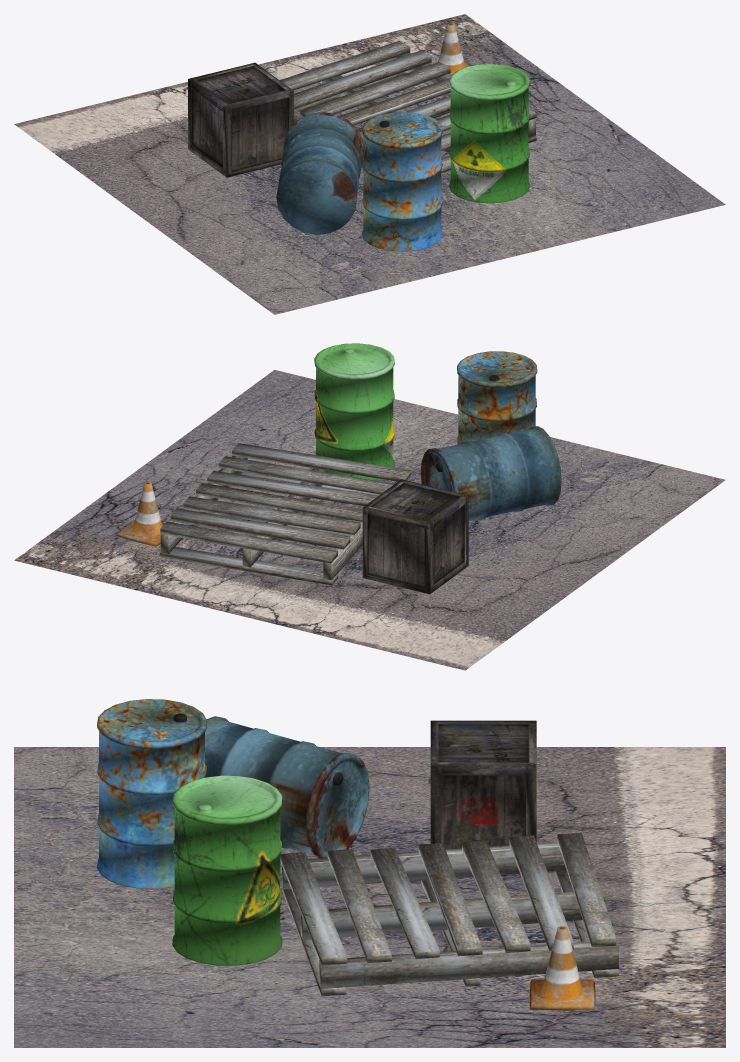
File: control BAKE  2_props 2.fbx
3 views of the same model, one above another, from view 1: azimuth 30°, elevation 25°; view 2: azimuth 150°, elevation 25°; view 3: azimuth 270°, elevation 25° (orthographic). The views are drawn at different scales.
Parts seen in each view (by area): view 1: Asfalto; view 2: Asfalto; view 3: Asfalto.
Boxes of the visible parts, x1,y1,x2,y2 form: Asfalto: (14,14,725,314); Asfalto: (14,343,725,670); Asfalto: (14,699,725,1047).
Size of the model in its own units: 411 by 93.63 by 411.
Materials: 1 (1 with a texture image).
